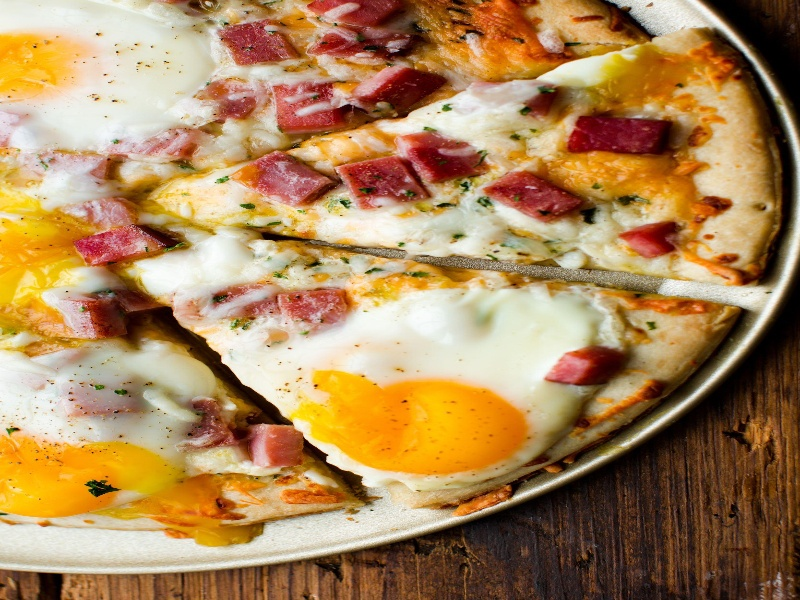oeuf: (280, 351, 542, 496), (7, 425, 174, 526)
